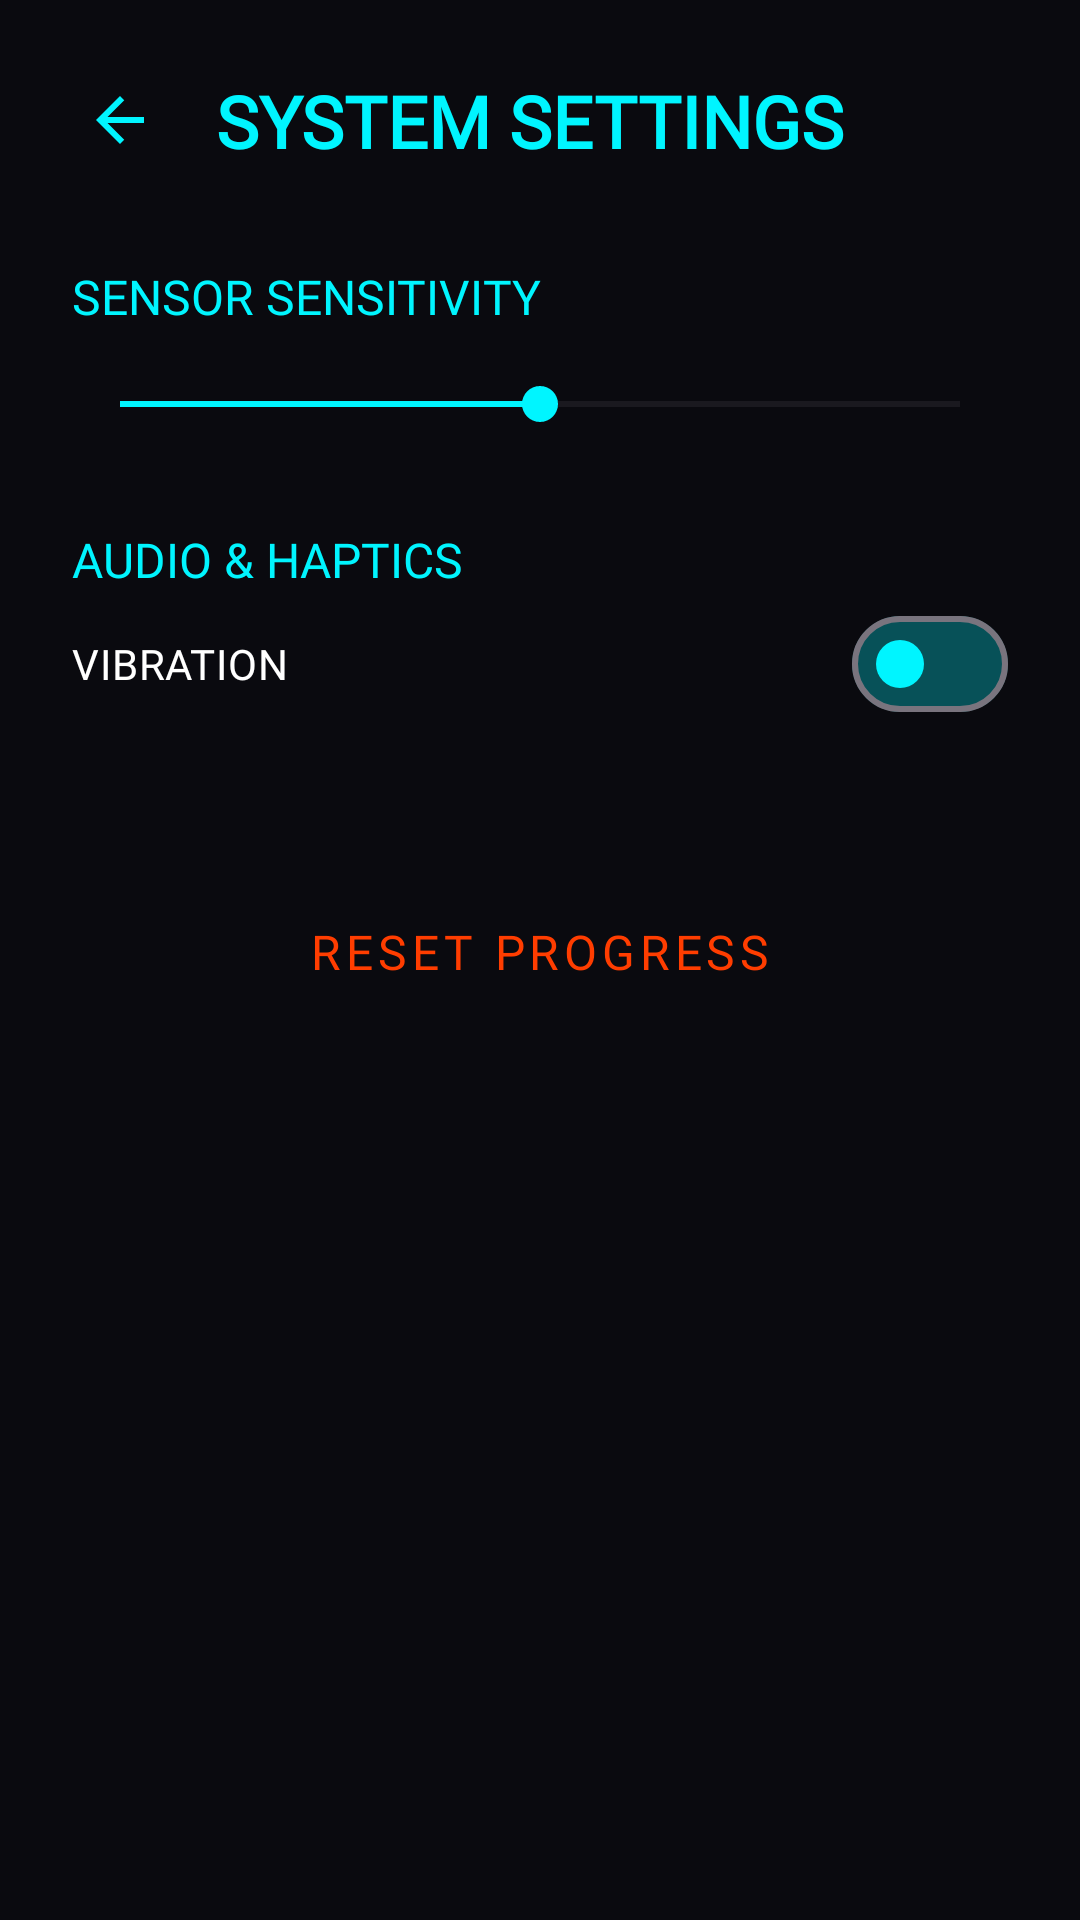

Icon click points for this 1080×1920 phone screenshot, format point (x, y):
Quay lại: point (120, 120)
